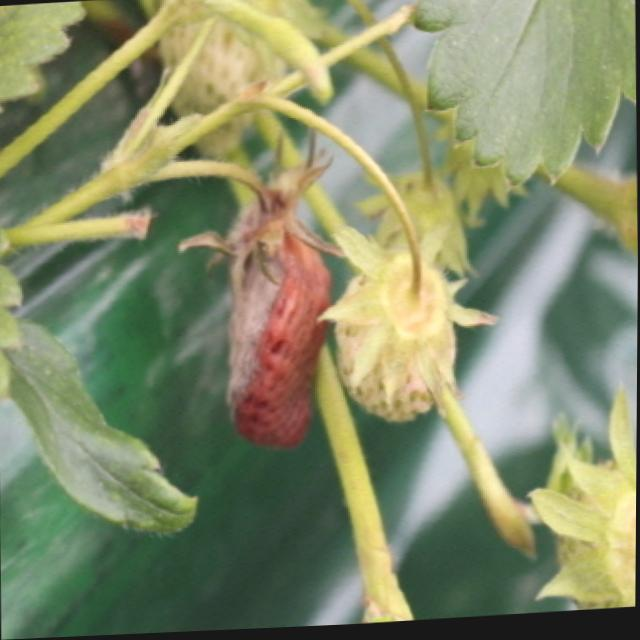Gray Mold: (178, 157, 346, 451)
